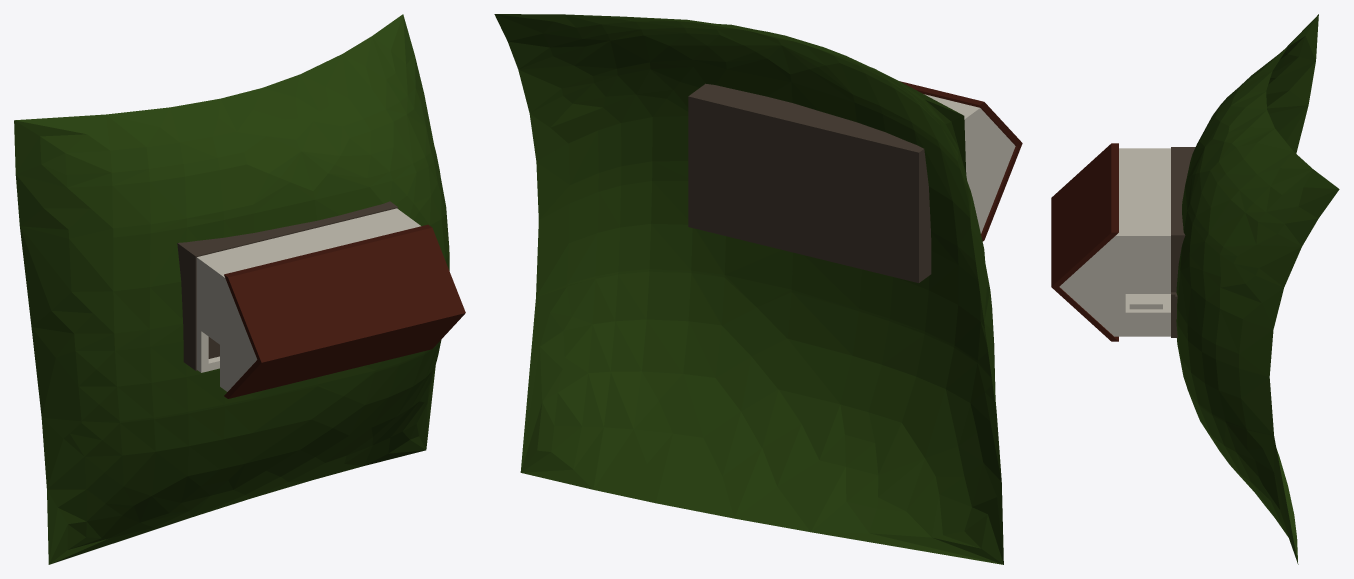
Rendered from ifc2x3.obj.
3 renders of one model, left to right at view 1: azimuth 30°, elevation 25°; view 2: azimuth 150°, elevation 25°; view 3: azimuth 270°, elevation 25°, orthographic. The views are drawn at different scales.
Visible parts, largest first — view 1: object 5, North roof, South roof, North wall, West wall, Footing; view 2: object 5, Footing, West wall, North roof; view 3: object 5, East wall, North roof, North wall, Footing, South wall, South roof.
Boxes of the visible parts, x1=… form: object 5: x1=14, y1=14, x2=449, y2=564; North roof: x1=224, y1=224, x2=465, y2=362; South roof: x1=224, y1=313, x2=465, y2=398; North wall: x1=196, y1=208, x2=420, y2=288; West wall: x1=196, y1=261, x2=257, y2=388; Footing: x1=177, y1=201, x2=397, y2=370; object 5: x1=494, y1=14, x2=1003, y2=564; Footing: x1=688, y1=83, x2=931, y2=282; West wall: x1=964, y1=111, x2=1015, y2=231; North roof: x1=900, y1=81, x2=1022, y2=146; object 5: x1=1176, y1=14, x2=1339, y2=564; East wall: x1=1059, y1=239, x2=1170, y2=333; North roof: x1=1051, y1=143, x2=1118, y2=287; North wall: x1=1109, y1=148, x2=1170, y2=242; Footing: x1=1171, y1=147, x2=1195, y2=337; South wall: x1=1109, y1=292, x2=1177, y2=336; South roof: x1=1052, y1=287, x2=1118, y2=341.
Size of the model in its own units: 20 by 20 by 13.91.
